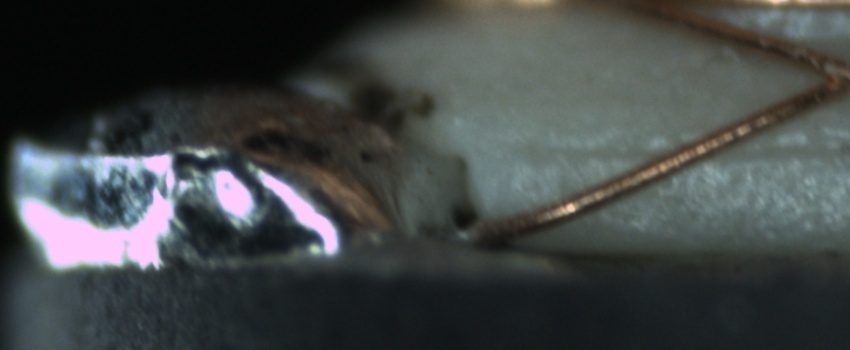CL: (797, 45, 850, 105)
DL: (502, 121, 850, 181)
